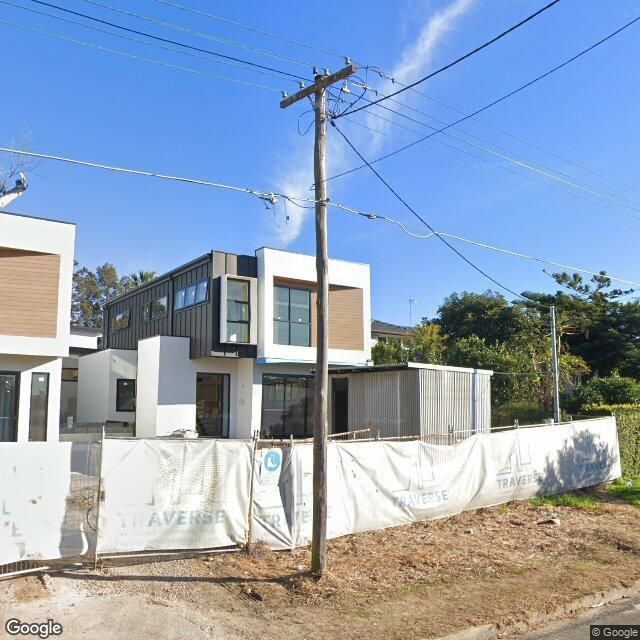crossarm: (278, 62, 356, 110)
steel-pole: (550, 306, 560, 422)
timber-pole: (311, 75, 328, 571)
